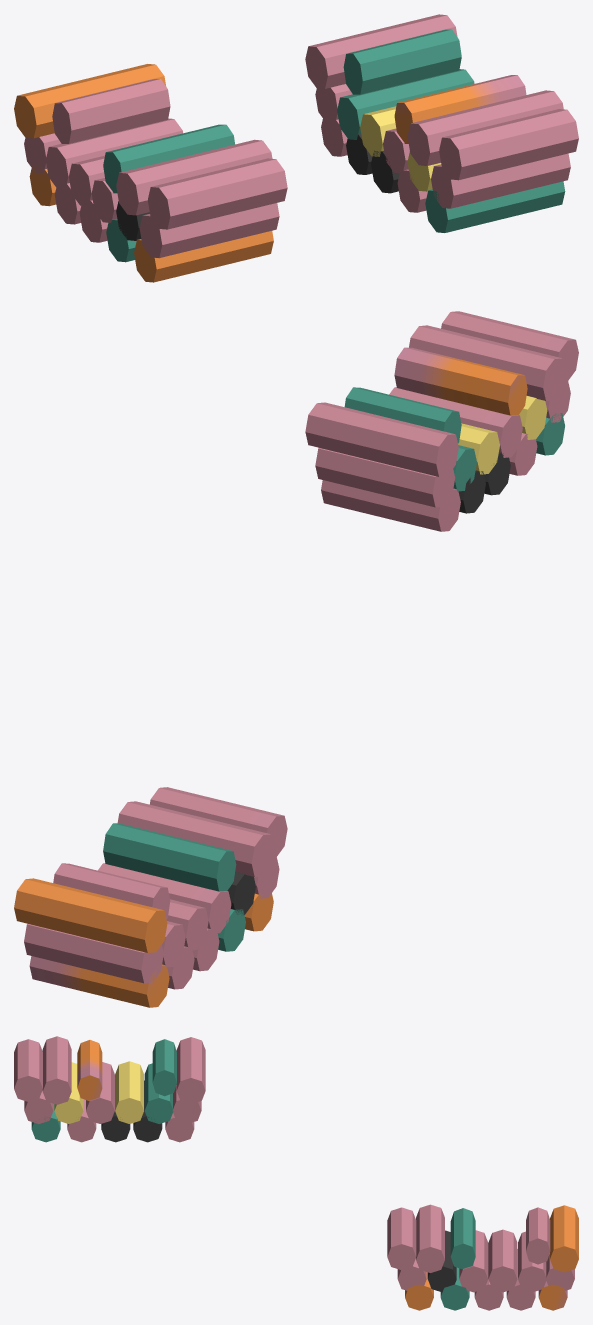
The model's file is Laundry_towels1.fbx.
The picture shows the model from 3 angles, top to bottom: view 1: azimuth 30°, elevation 25°; view 2: azimuth 150°, elevation 25°; view 3: azimuth 270°, elevation 25°; orthographic projection. The views are drawn at different scales.
Parts seen in each view (by area): view 1: Laundry_towels1; view 2: Laundry_towels1; view 3: Laundry_towels1.
Part boxes in pixels (box(x1,y1,x2,y2)): Laundry_towels1: box(14, 14, 578, 282); Laundry_towels1: box(14, 311, 578, 1007); Laundry_towels1: box(14, 1036, 578, 1310).
Bounding box in the file's own units: 37.68 × 98.66 × 212.
